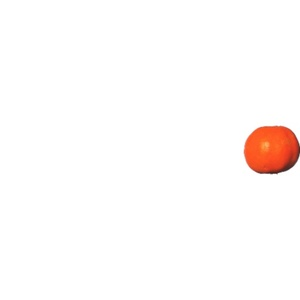tangerina: (244, 123, 300, 175)
